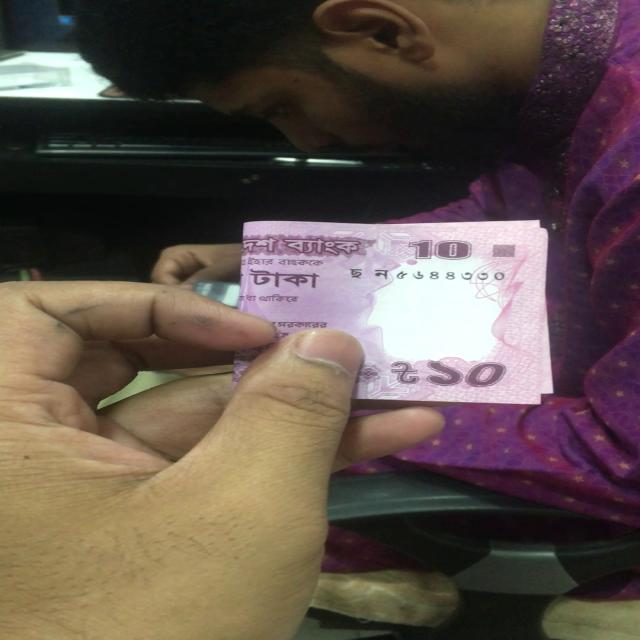Taka: (235, 222, 568, 409)
